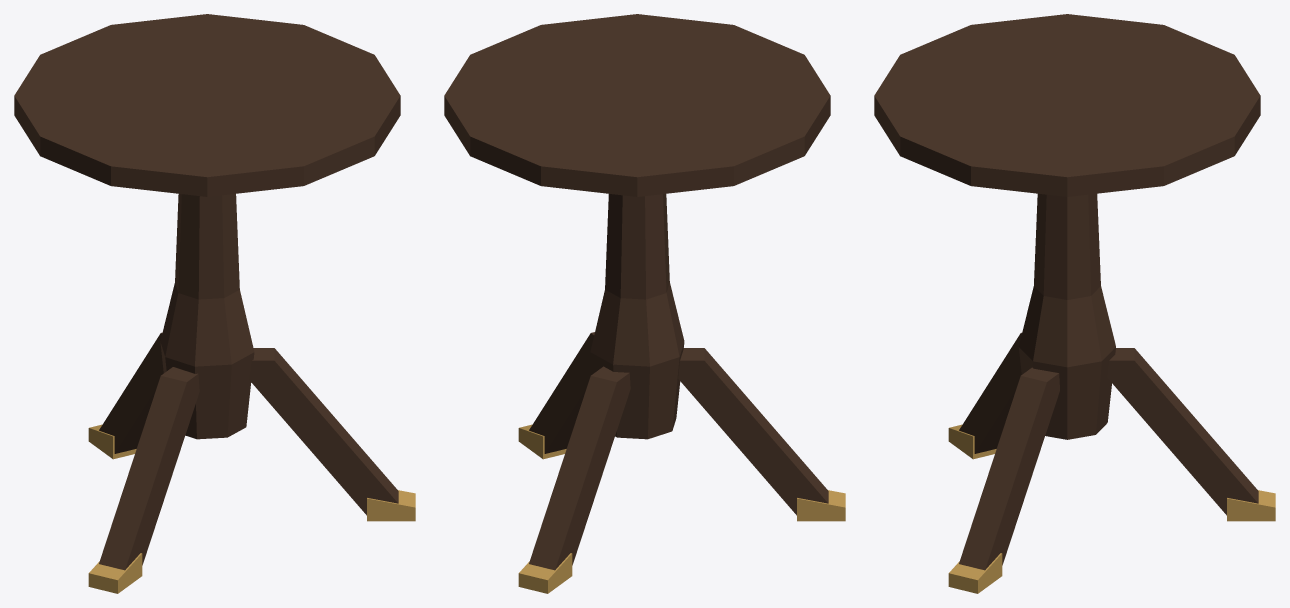
Rendered from FN_Table_Tripod.glb.
The picture shows the model from 3 angles, left to right: view 1: azimuth 30°, elevation 25°; view 2: azimuth 150°, elevation 25°; view 3: azimuth 270°, elevation 25°; orthographic projection.
Visible parts, largest first — view 1: FN_Table_Tripod; view 2: FN_Table_Tripod; view 3: FN_Table_Tripod.
Part boxes in pixels (left/top/right/bottom): FN_Table_Tripod: left=14, top=14, right=415, bottom=593; FN_Table_Tripod: left=444, top=14, right=845, bottom=593; FN_Table_Tripod: left=874, top=14, right=1275, bottom=593.
Size of the model in its own units: 0.46 by 0.55 by 0.478.
Materials: 1 (1 with a texture image).
